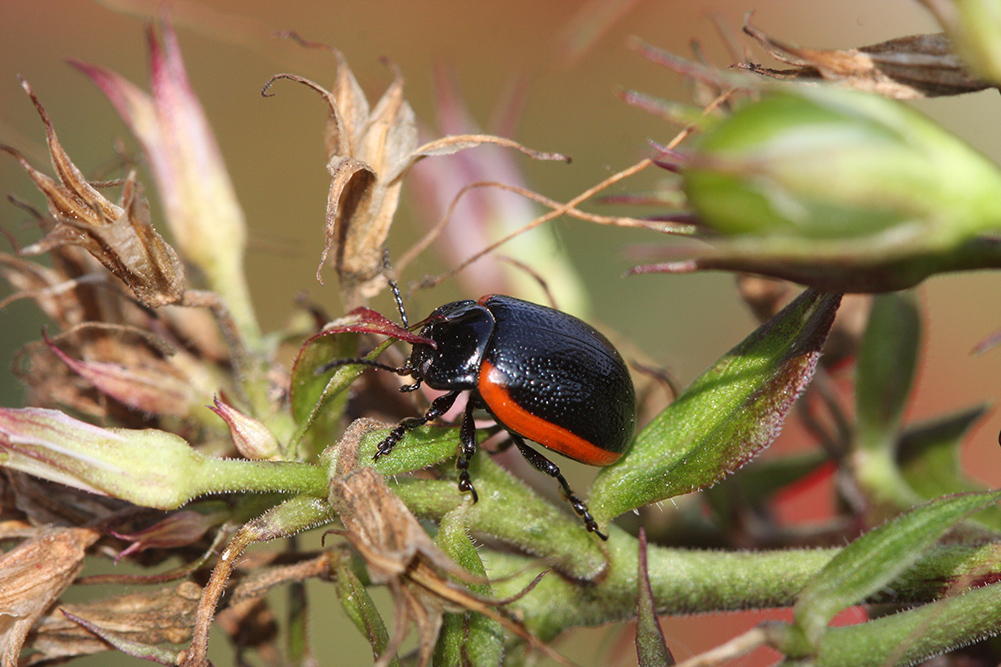Chrysolina_gypsophila: (322, 244, 639, 547)
